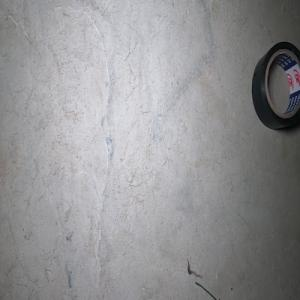Tape: (251, 41, 300, 130)
